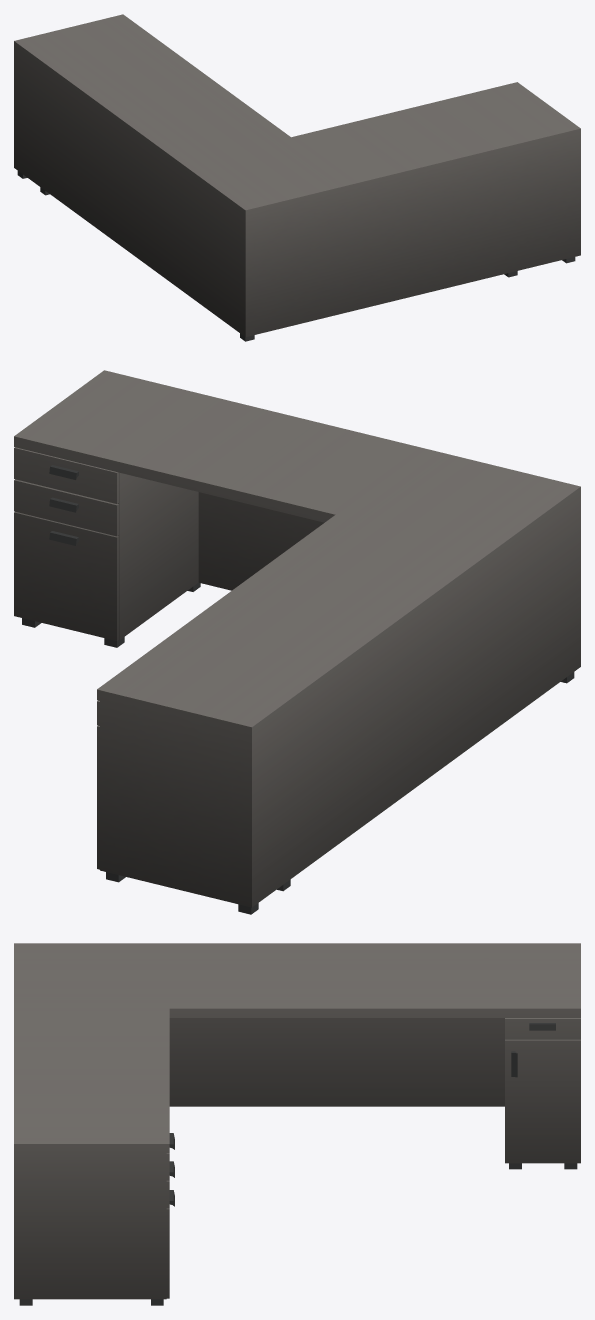
Rendered from Desk_Corner_Booth_B.fbx.
The picture shows the model from 3 angles, top to bottom: view 1: azimuth 30°, elevation 25°; view 2: azimuth 150°, elevation 25°; view 3: azimuth 270°, elevation 25°; orthographic projection. The views are drawn at different scales.
Parts seen in each view (by area): view 1: Desk_Corner_Booth_B; view 2: Desk_Corner_Booth_B; view 3: Desk_Corner_Booth_B.
Boxes of the visible parts, box(x1,y1,x2,y2) form: Desk_Corner_Booth_B: box(14, 14, 580, 341); Desk_Corner_Booth_B: box(14, 370, 580, 914); Desk_Corner_Booth_B: box(14, 943, 580, 1305).
Size of the model in its own units: 184 by 70 by 220.
